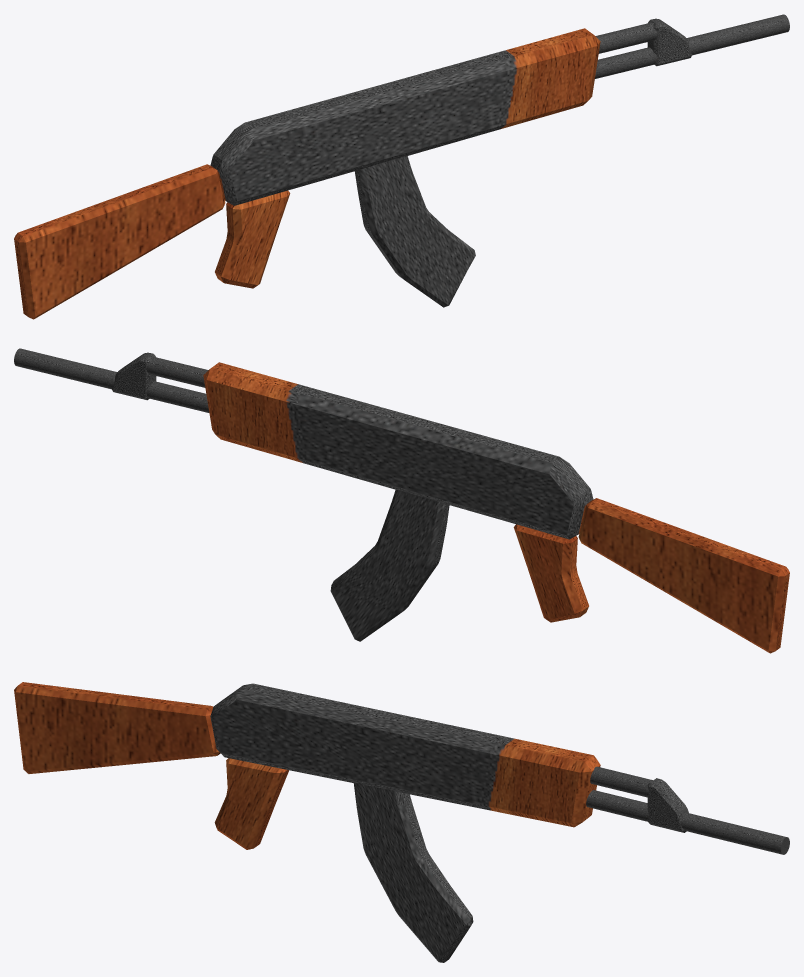
The model's file is ak_color.fbx.
3 views of the same model, one above another, from view 1: azimuth 30°, elevation 25°; view 2: azimuth 150°, elevation 25°; view 3: azimuth 330°, elevation 25° (orthographic).
Visible parts, largest first — view 1: polySurface4; view 2: polySurface4; view 3: polySurface4.
Part boxes in pixels (<box>): polySurface4: <box>14,14,789,319</box>; polySurface4: <box>14,348,789,653</box>; polySurface4: <box>14,682,789,962</box>.
Bounding box in the file's own units: 7.56 × 2.24 × 0.2966.
